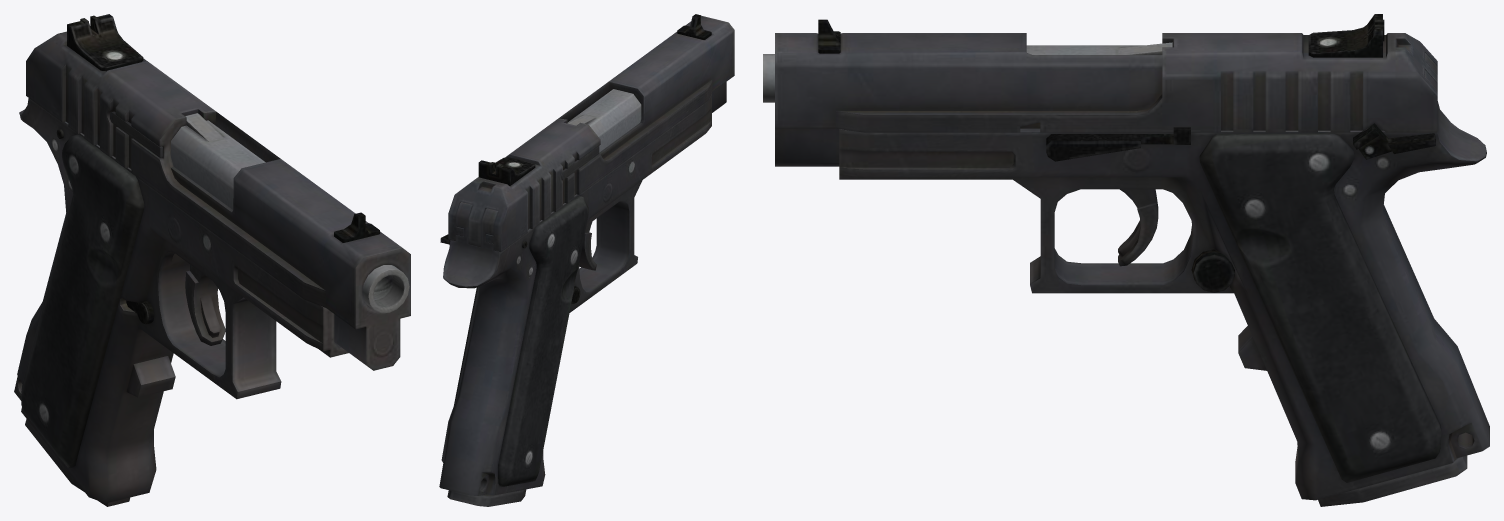
The model's file is gun_pistol.glb.
3 renders of one model, left to right at view 1: azimuth 30°, elevation 25°; view 2: azimuth 150°, elevation 25°; view 3: azimuth 270°, elevation 25°, orthographic. The views are drawn at different scales.
Parts seen in each view (by area): view 1: prop; view 2: prop; view 3: prop.
Boxes of the visible parts, left/top/right/bottom form: prop: left=14, top=14, right=410, bottom=506; prop: left=439, top=14, right=734, bottom=506; prop: left=763, top=14, right=1489, bottom=506.
Size of the model in its own units: 0.0317 by 0.1531 by 0.21.
1 material, 1 textured.
